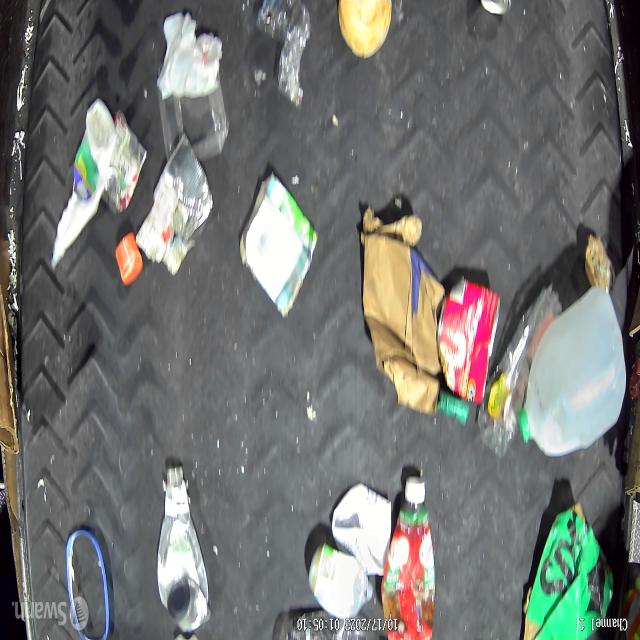can: (436, 274, 501, 405), (155, 136, 213, 242), (102, 110, 146, 214)
milk_jug: (517, 282, 626, 458)
